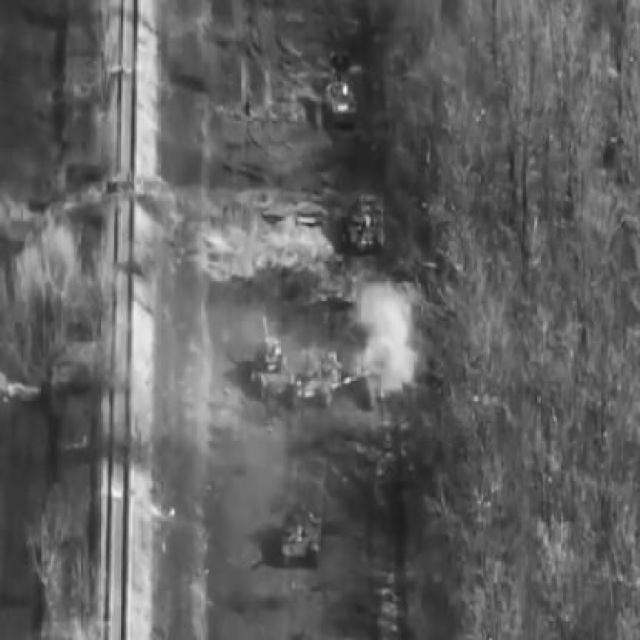Tank: (245, 304, 299, 406), (279, 503, 325, 574), (348, 190, 388, 258)
